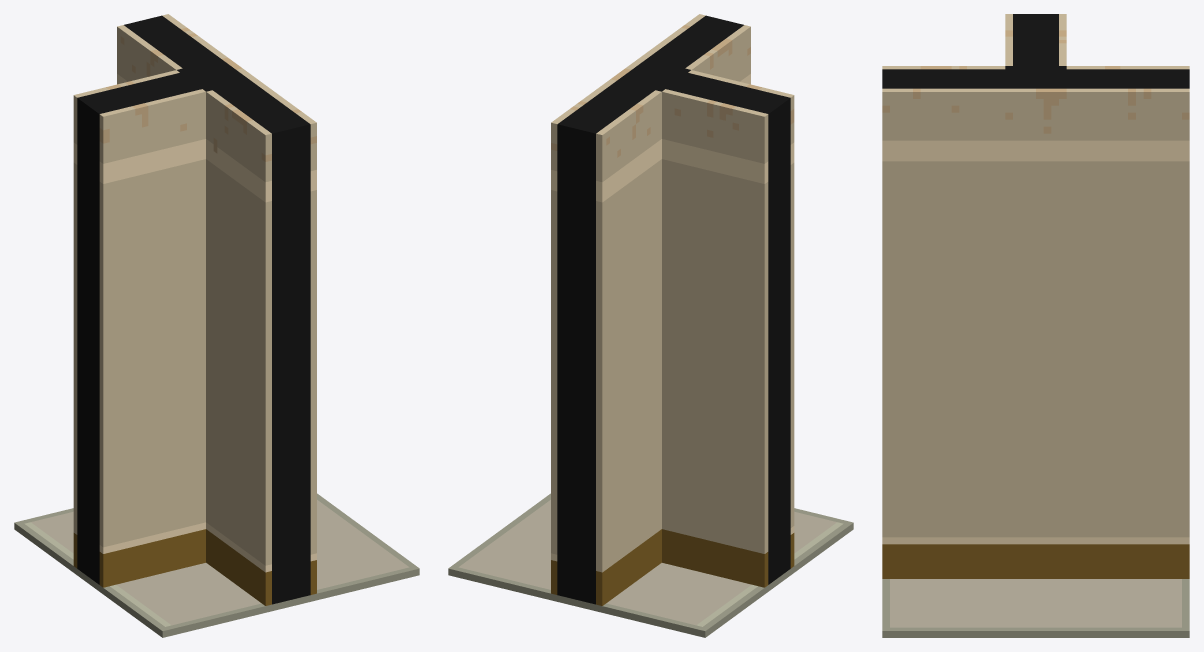
Rendered from Parede_T_2.obj.
The picture shows the model from 3 angles, left to right: view 1: azimuth 30°, elevation 25°; view 2: azimuth 150°, elevation 25°; view 3: azimuth 270°, elevation 25°; orthographic projection. The views are drawn at different scales.
Bounding box in the file's own units: 40 × 71 × 40.
1 material, 1 textured.
